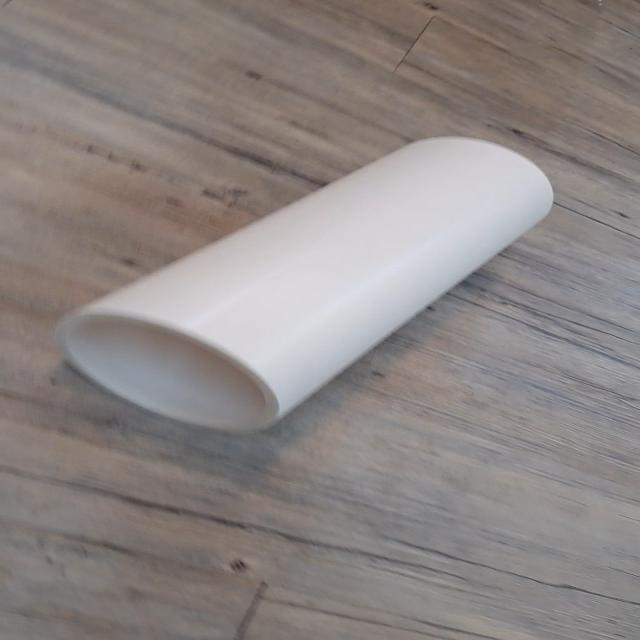CORAL: (42, 127, 566, 434)
